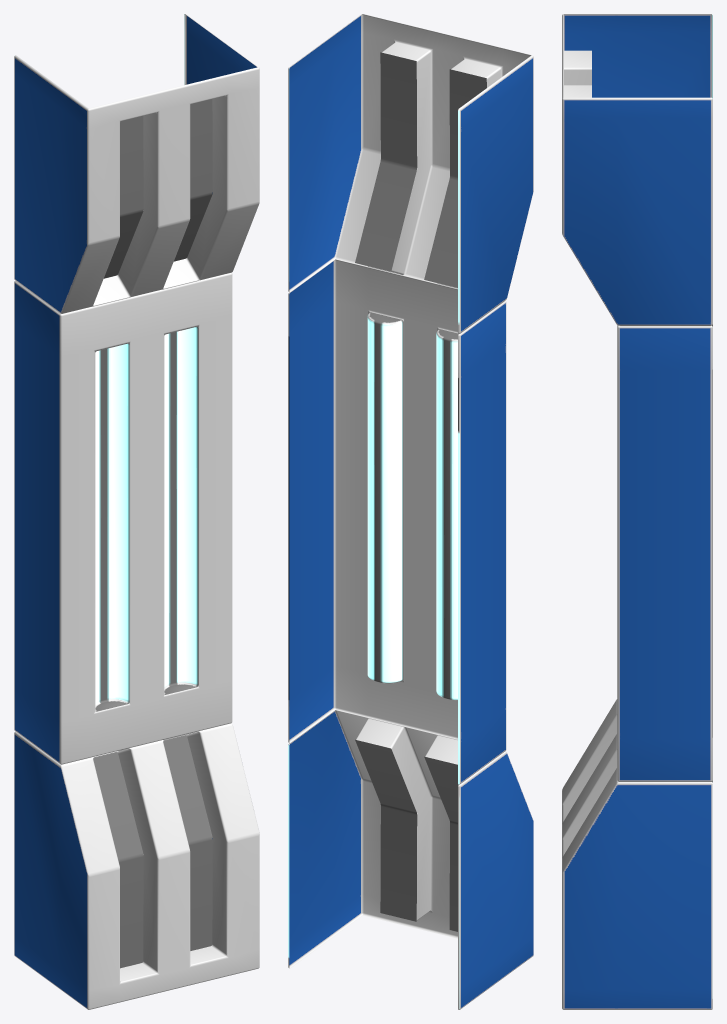
File: CorridorColumn_v2.fbx
3 renders of one model, left to right at view 1: azimuth 30°, elevation 25°; view 2: azimuth 150°, elevation 25°; view 3: azimuth 270°, elevation 25°, orthographic.
Visible parts, largest first — view 1: MainStruct_Central_Left; view 2: MainStruct_Central_Left; view 3: MainStruct_Central_Left.
Boxes of the visible parts, x1,y1,x2,y2 form: MainStruct_Central_Left: (14, 14, 259, 1009); MainStruct_Central_Left: (288, 14, 533, 1009); MainStruct_Central_Left: (562, 14, 712, 1009).
Bounding box in the file's own units: 100 × 500 × 75.
